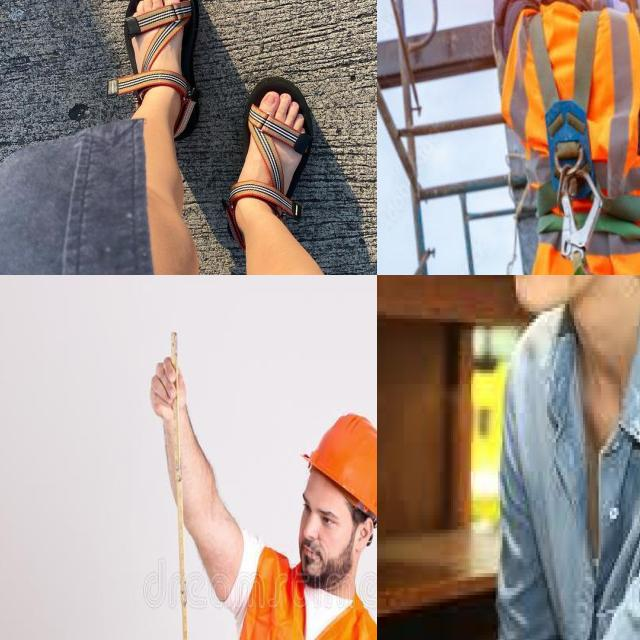Harness: (528, 11, 640, 275)
Sandals: (233, 69, 319, 241), (112, 0, 202, 132)
face_nomask: (286, 479, 353, 598)
hand_noglove: (144, 351, 197, 437)
head_helmet: (307, 410, 377, 514)
person: (158, 351, 377, 640)
